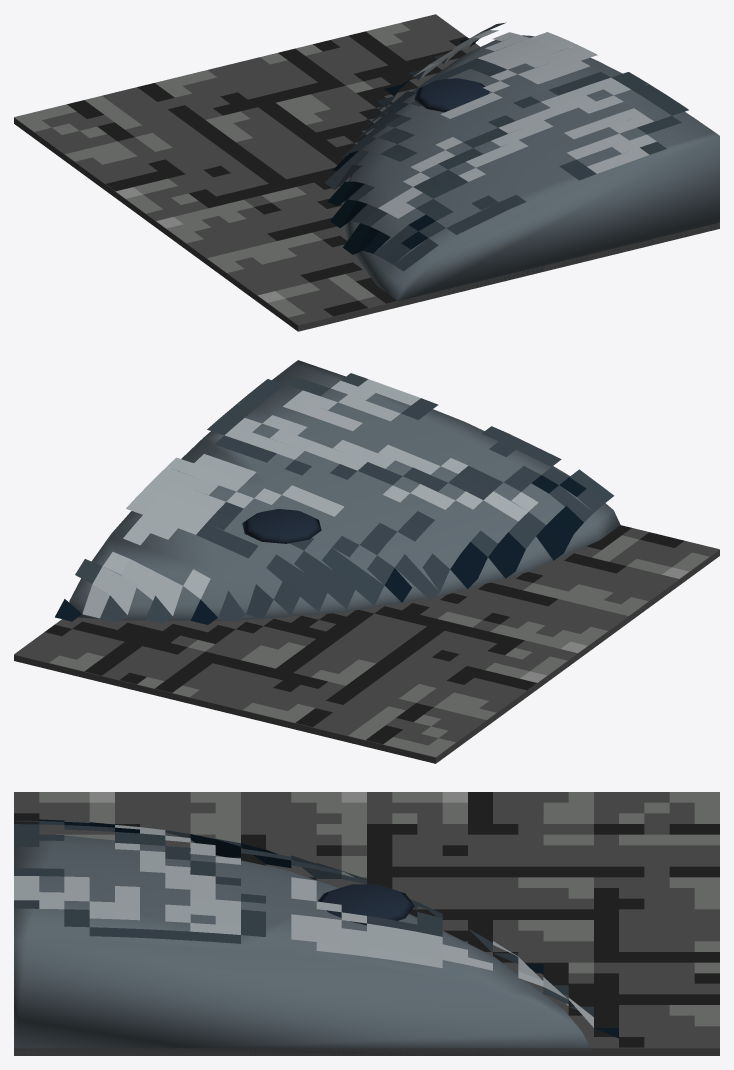
Rendered from newshm-45.glb.
3 renders of one model, top to bottom at view 1: azimuth 30°, elevation 25°; view 2: azimuth 150°, elevation 25°; view 3: azimuth 270°, elevation 25°, orthographic. The views are drawn at different scales.
Visible parts, largest first — view 1: newshm-45; view 2: newshm-45; view 3: newshm-45.
Boxes of the visible parts, left/top/right/bottom form: newshm-45: left=14, top=14, right=719, bottom=331; newshm-45: left=14, top=360, right=719, bottom=763; newshm-45: left=14, top=792, right=719, bottom=1055.
Bounding box in the file's own units: 2 × 0.437 × 2.33.
